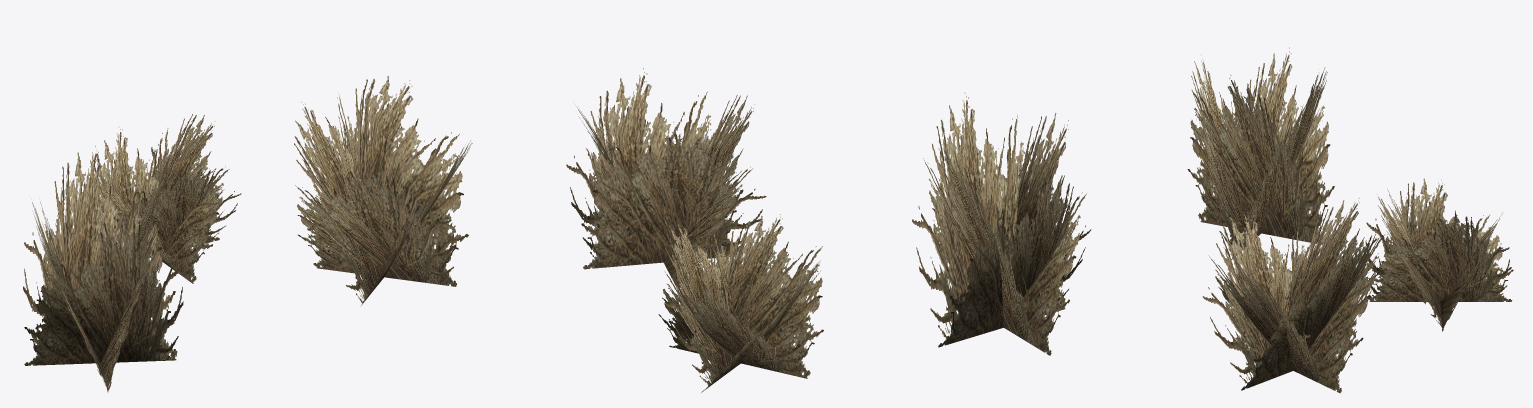
File: mveg2d.glb
The picture shows the model from 3 angles, left to right: view 1: azimuth 30°, elevation 25°; view 2: azimuth 150°, elevation 25°; view 3: azimuth 270°, elevation 25°; orthographic projection. The views are drawn at different scales.
Parts seen in each view (by area): view 1: _mveg2d; view 2: _mveg2d; view 3: _mveg2d.
Part boxes in pixels (box(x1,y1,x2,y2)): _mveg2d: box(23, 76, 472, 392); _mveg2d: box(566, 68, 1091, 392); _mveg2d: box(1187, 47, 1513, 393).
Bounding box in the file's own units: 5 × 2.16 × 3.24.
Materials: 1 (1 with a texture image).
